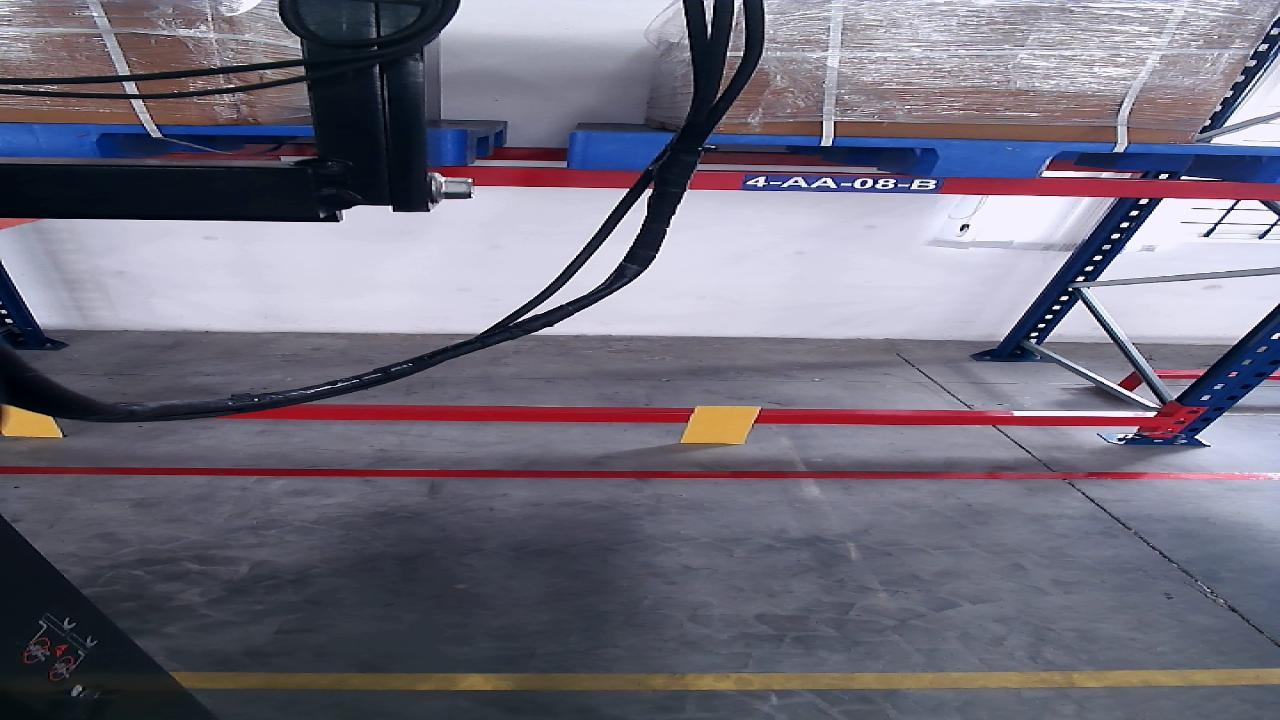h_rack: (473, 164, 1279, 199), (226, 406, 1157, 427)
orange_strip: (683, 406, 753, 442)
red_line: (1, 465, 1277, 480)
small_pallet: (571, 133, 1276, 182), (3, 123, 456, 166)
yellow_line: (172, 669, 1279, 686)
